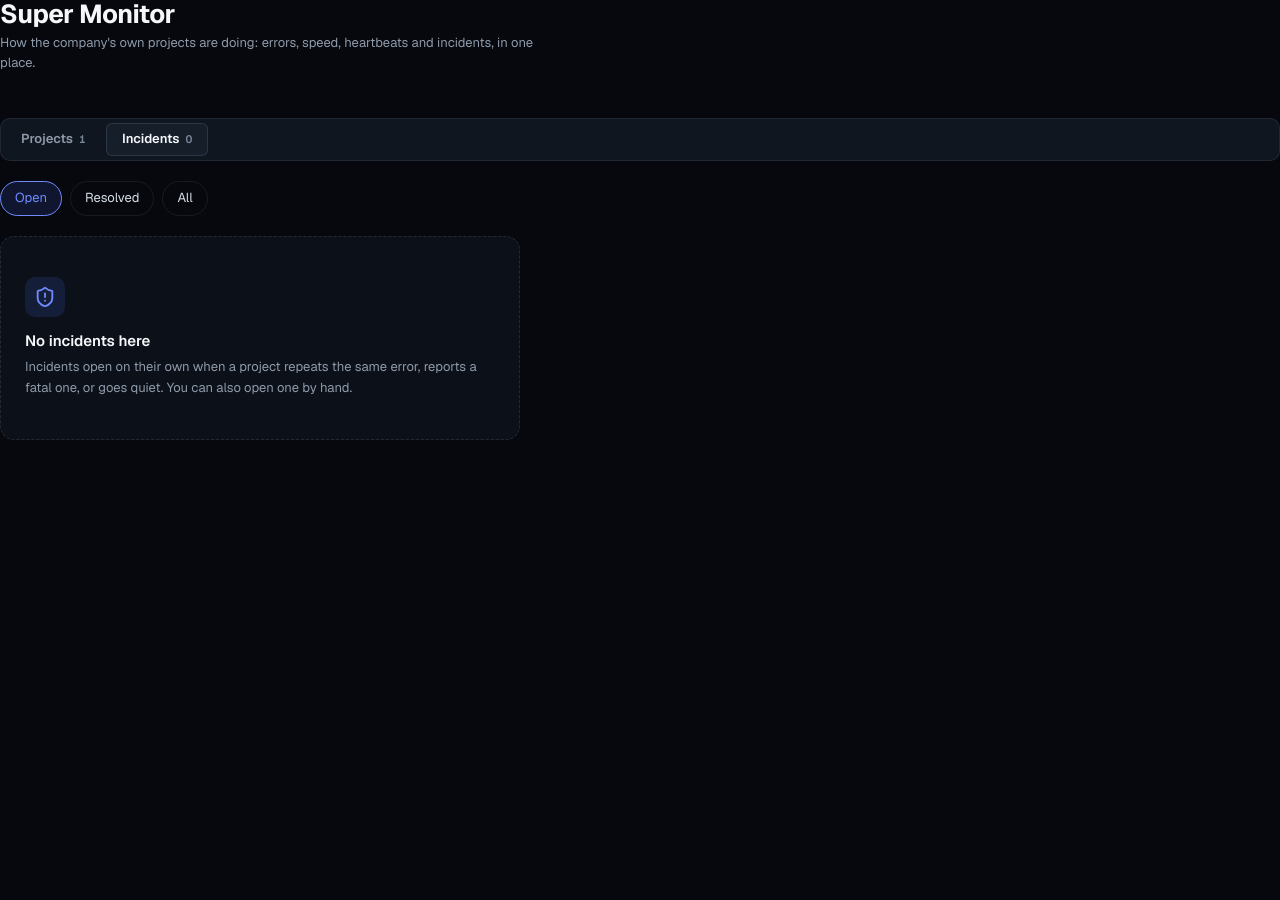
Test: Super Monitor: an incident › offers only "Reopen" on a resolved incident, and hides the editing controls
What coordinates should you click on to do the following:
click the button "Resolved"
I would click on:
 (112, 198)
Its box is left=70, top=181, right=154, bottom=216.
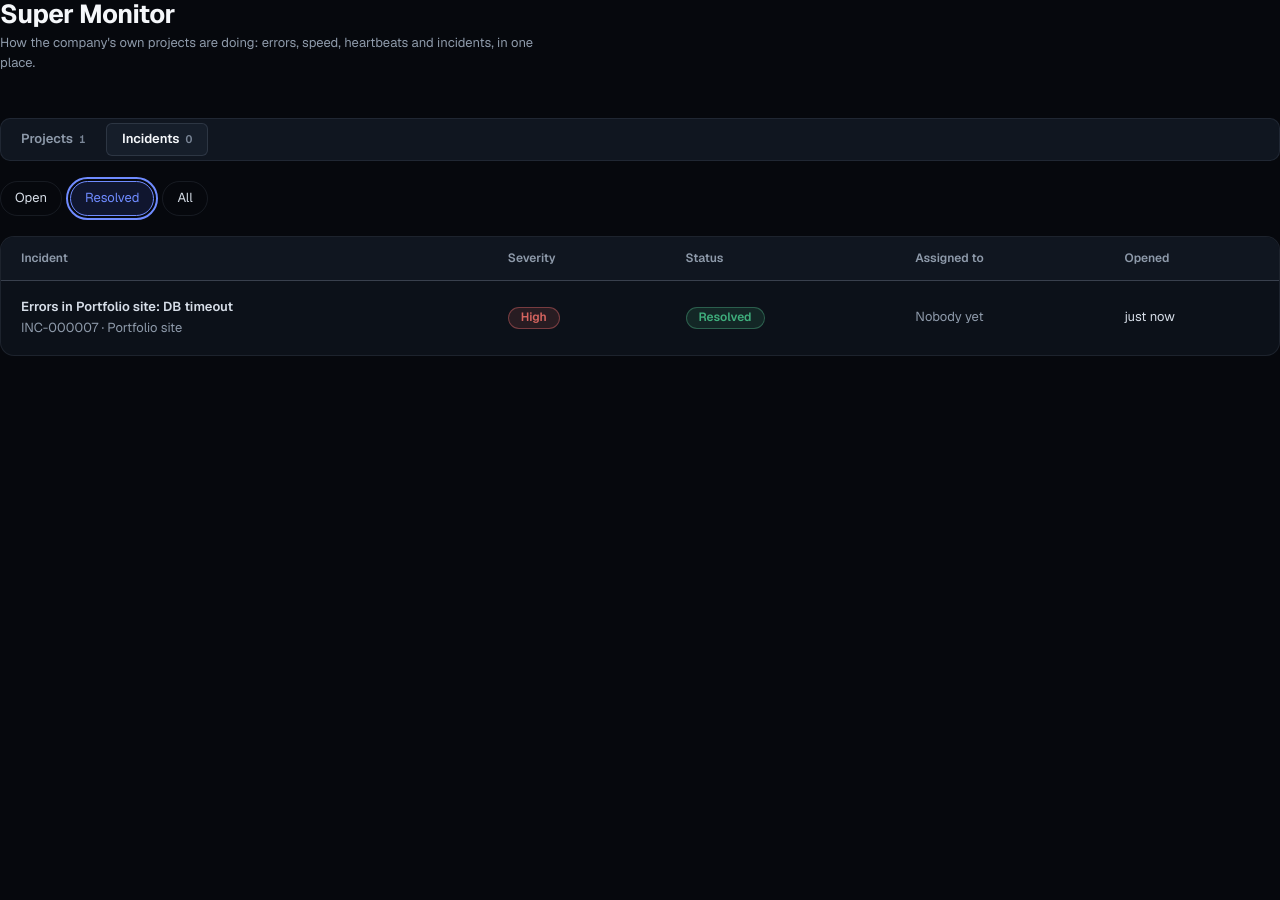
What coordinates should you click on to do the following:
click the text "Errors in Portfolio site: DB timeout"
I would click on:
 (127, 306)
Its box is left=21, top=298, right=233, bottom=315.
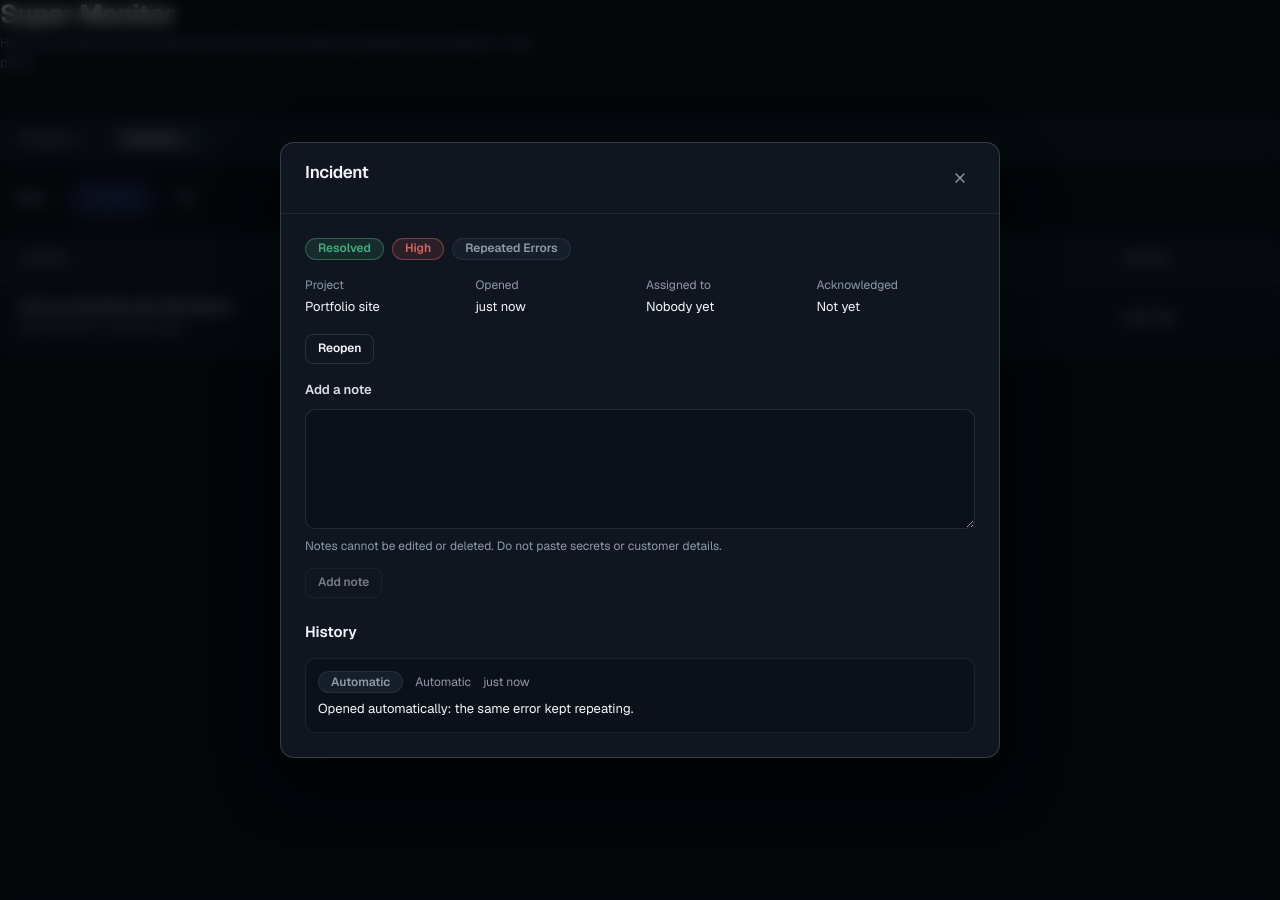
Now the buttons read "Reopen", in this order, box left=305, top=334, right=374, bottom=364
